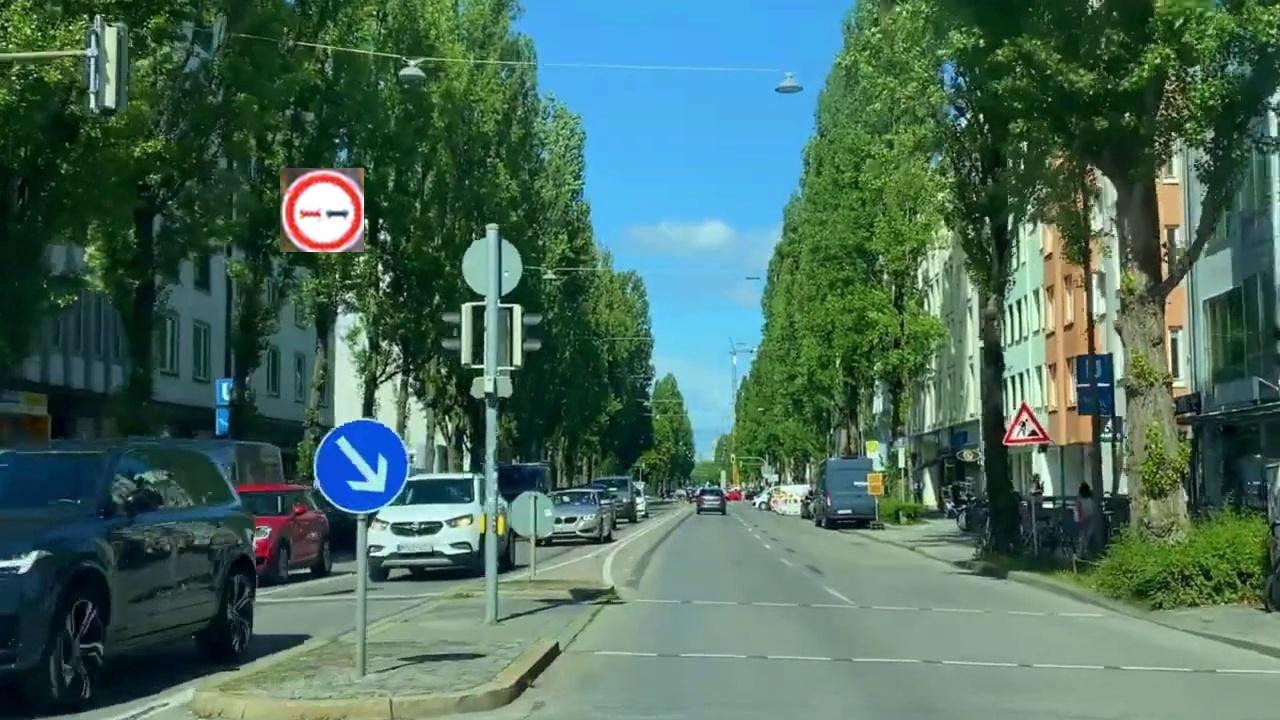No passing: (280, 168, 364, 252)
